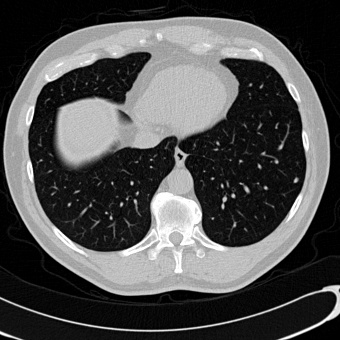nodule: (294, 178, 298, 182)
